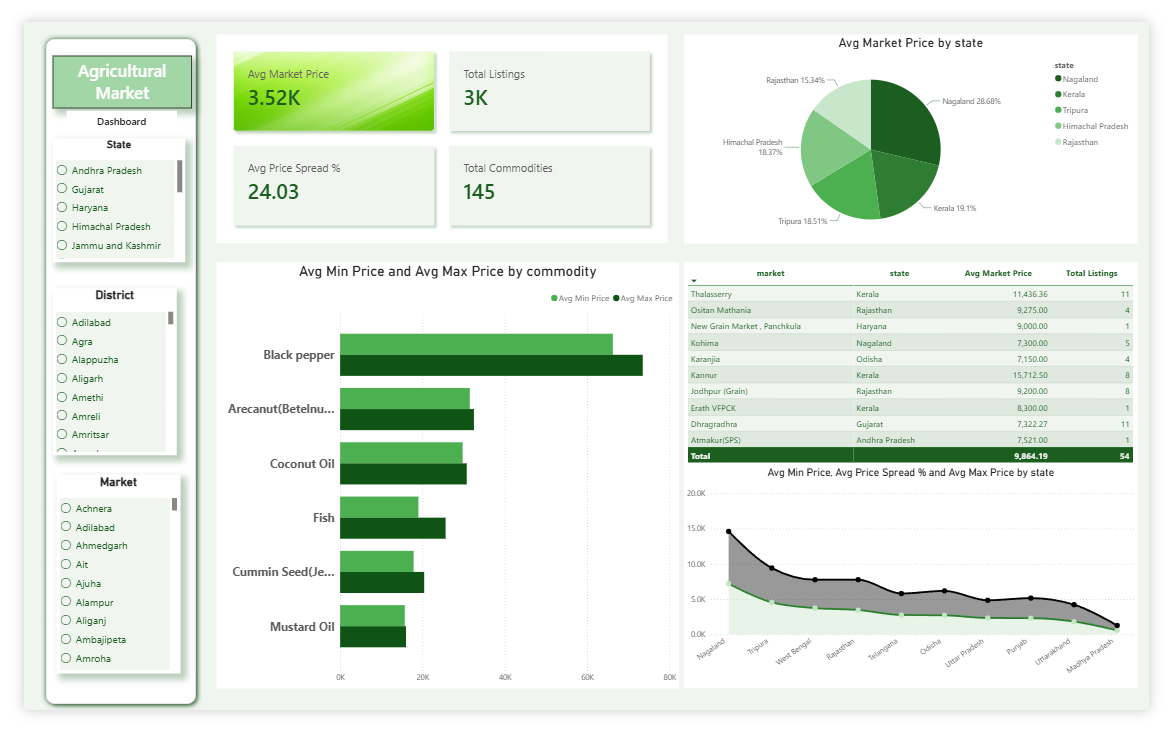

This screenshot's page, from the dashboard's own definition file:
{"tool":"powerbi","page":{"name":"Page 1","canvas":[1800,1100],"ordinal":0},"visuals":[{"type":"shape","box":[26,18,258,1082],"z":0},{"type":"textbox","box":[46.2,53.8,222.5,83.8],"z":1000},{"type":"textbox","box":[68.6,142.9,176.4,42.1],"z":2000},{"type":"cardVisual","fields":{"Data":["public commodity_price_clean.Avg Market Price","public commodity_price_clean.Total Listings","public commodity_price_clean.Avg Price Spread %","public commodity_price_clean.Total Commodities"]},"box":[308,20,721.7,333.3],"z":3000},{"type":"clusteredBarChart","fields":{"Category":["public commodity_price_clean.commodity"],"Y":["public commodity_price_clean.Avg Min Price","public commodity_price_clean.Avg Max Price"]},"box":[308,384,740,682],"z":4000},{"type":"pieChart","fields":{"Category":["public commodity_price_clean.state"],"Y":["public commodity_price_clean.Avg Market Price"]},"box":[1056,20,726,334],"z":5000},{"type":"tableEx","fields":{"Values":["public commodity_price_clean.market","public commodity_price_clean.state","public commodity_price_clean.Avg Market Price","public commodity_price_clean.Total Listings"]},"box":[1056,384,726,326],"z":6000},{"type":"group","id":"g1","title":"Group 1","box":[46,186,212,198],"z":7000},{"type":"listSlicer","title":"Market","fields":{"Values":["public commodity_price_clean.market"]},"box":[51.4,724.3,198.6,318.6],"z":8000},{"type":"listSlicer","title":"District","fields":{"Values":["public commodity_price_clean.district"]},"box":[45.7,425.7,198.6,267.1],"z":9000},{"type":"stackedAreaChart","fields":{"Category":["public commodity_price_clean.state"],"Y":["public commodity_price_clean.Avg Min Price","public commodity_price_clean.Avg Price Spread %","public commodity_price_clean.Avg Max Price"]},"box":[1056,710,726,356],"z":10000},{"type":"listSlicer","title":"State","fields":{"Values":["public commodity_price_clean.state"]},"box":[46,186,212,198],"z":12000,"group":"g1"}]}

Visuals, with their boxes in screenshot pixels (x1, y1, x2, y2), scaled from the page's 1800x1100 canvas onto the 1172x733 screenshot:
shape: bbox=[17, 12, 185, 732]
textbox: bbox=[30, 36, 175, 92]
textbox: bbox=[45, 95, 160, 123]
cardVisual - public commodity_price_clean.Avg Market Price x public commodity_price_clean.Total Listings: bbox=[201, 13, 670, 235]
clusteredBarChart - public commodity_price_clean.commodity x public commodity_price_clean.Avg Min Price: bbox=[201, 256, 682, 710]
pieChart - public commodity_price_clean.state x public commodity_price_clean.Avg Market Price: bbox=[688, 13, 1160, 236]
tableEx - public commodity_price_clean.market x public commodity_price_clean.state: bbox=[688, 256, 1160, 473]
"Group 1" group: bbox=[30, 124, 168, 256]
"Market" listSlicer: bbox=[33, 483, 163, 695]
"District" listSlicer: bbox=[30, 284, 159, 462]
stackedAreaChart - public commodity_price_clean.state x public commodity_price_clean.Avg Min Price: bbox=[688, 473, 1160, 710]
"State" listSlicer: bbox=[30, 124, 168, 256]
